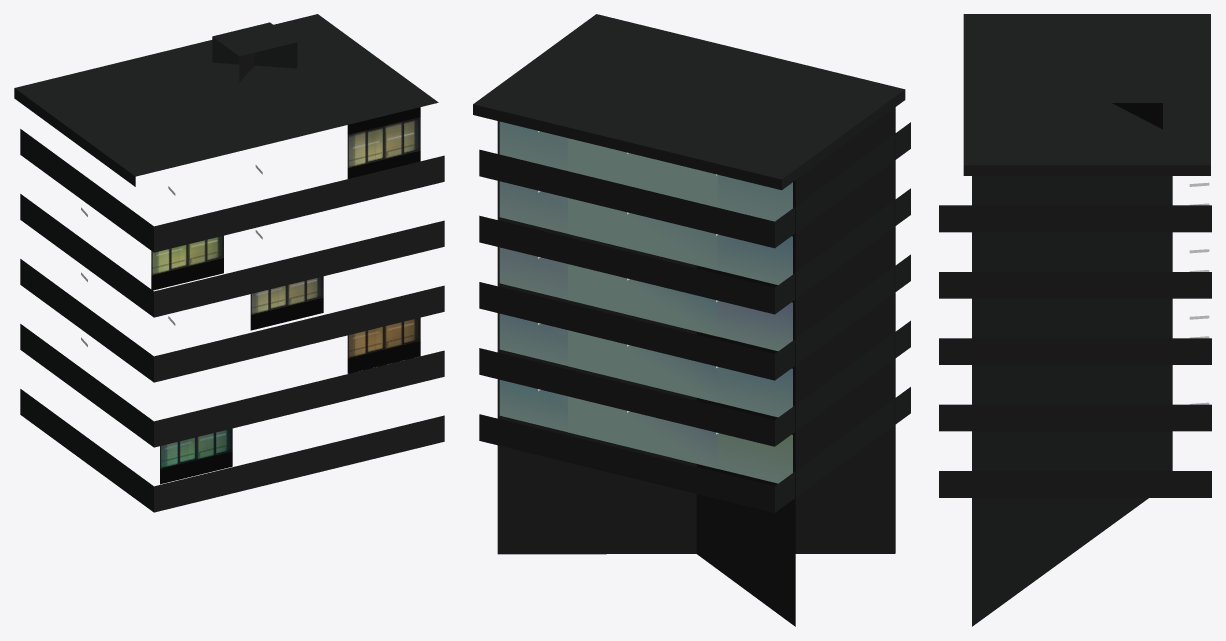
Rendered from AMB_MANSYON_D4_L.glb.
3 views of the same model, side by side, from view 1: azimuth 30°, elevation 25°; view 2: azimuth 150°, elevation 25°; view 3: azimuth 270°, elevation 25° (orthographic). The views are drawn at different scales.
Visible parts, largest first — view 1: BASE; view 2: BASE; view 3: BASE.
Boxes of the visible parts, x1,y1,x2,y2 form: BASE: (14, 14, 444, 512); BASE: (473, 14, 910, 626); BASE: (939, 14, 1211, 626).
Size of the model in its own units: 112 by 170 by 85.7.
Materials: 4 (4 with a texture image).
